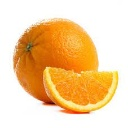orange: (11, 16, 99, 104), (41, 66, 121, 114)
